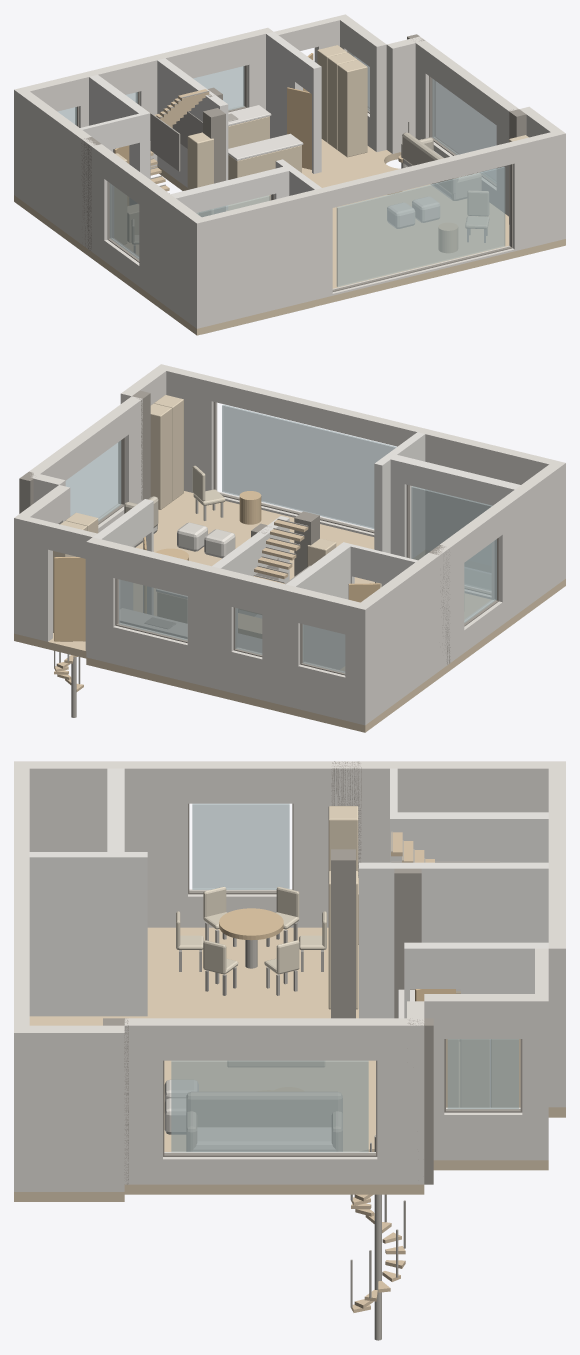
The model's file is ground-floor-wood.glb.
The picture shows the model from 3 angles, top to bottom: view 1: azimuth 30°, elevation 25°; view 2: azimuth 150°, elevation 25°; view 3: azimuth 270°, elevation 25°; orthographic projection. The views are drawn at different scales.
Parts seen in each view (by area): view 1: F1_Slab, F1_ExtWall_00_P00, F1_ExtWall_00_sliding_01_Glass, F1_ExtWall_09_P00, F1_ExtWall_09_P01, F1_ExtWall_00_P01, F1_ExtWall_00_Header_01, F1_ExtWall_03_window_01_Glass, F1_ExtWall_04_P00, F1_Entry_Tall_Cabinets_M01, F1_Stair_Kitchen_P00, F1_Bath_Stair_P00 (+51 smaller); view 2: F1_ExtWall_00_sliding_01_Glass, F1_ExtWall_09_P00, F1_Slab, F1_ExtWall_09_P01, F1_ExtWall_00_P00, F1_ExtWall_08_P01, F1_ExtWall_00_Header_01, F1_ExtWall_08_P02, F1_Atrium_North_sliding_01_Glass, F1_ExtWall_00_P01, F1_ExtWall_06_P00, F1_Bath_Stair_P00 (+47 smaller); view 3: F1_Slab, F1_Atrium_East_P00, F1_ExtWall_03_window_01_Glass, F1_ExtWall_09_P00, F1_ExtWall_09_P01, F1_Stair_Kitchen_P00, F1_ExtWall_01_P00, F1_ExtWall_03_Header_01, F1_ExtWall_09_window_01_Glass, F1_Bath_Stair_P00, F1_ExtWall_03_P00, F1_ExtWall_03_Sill_01 (+37 smaller).
Part boxes in pixels (x1,y1,x2,y2): F1_Slab: (14,139,565,335); F1_ExtWall_00_P00: (191,186,332,328); F1_ExtWall_00_sliding_01_Glass: (336,166,505,286); F1_ExtWall_09_P00: (14,87,113,260); F1_ExtWall_09_P01: (139,179,206,328); F1_ExtWall_00_P01: (509,130,565,251); F1_ExtWall_00_Header_01: (328,142,514,207); F1_ExtWall_03_window_01_Glass: (432,78,496,182); F1_ExtWall_04_P00: (386,37,424,153); F1_Entry_Tall_Cabinets_M01: (337,60,367,157); F1_Stair_Kitchen_P00: (157,58,228,209); F1_Bath_Stair_P00: (89,75,150,205); F1_ExtWall_00_sliding_01_Glass: (222,404,396,528); F1_ExtWall_09_P00: (354,534,464,723); F1_Slab: (14,491,565,732); F1_ExtWall_09_P01: (492,460,565,624); F1_ExtWall_00_P00: (411,426,565,580); F1_ExtWall_08_P01: (187,562,237,692); F1_ExtWall_00_Header_01: (211,378,416,446); F1_ExtWall_08_P02: (262,580,304,708); F1_Atrium_North_sliding_01_Glass: (411,486,492,590); F1_ExtWall_00_P01: (156,364,217,492); F1_ExtWall_06_P00: (15,516,52,641); F1_Bath_Stair_P00: (286,542,352,669); F1_Slab: (14,927,565,1201); F1_Atrium_East_P00: (29,852,147,1016); F1_ExtWall_03_window_01_Glass: (171,1060,368,1152); F1_ExtWall_09_P00: (293,761,565,927); F1_ExtWall_09_P01: (14,761,187,927); F1_Stair_Kitchen_P00: (359,862,548,1018); F1_ExtWall_01_P00: (14,1025,124,1191); F1_ExtWall_03_Header_01: (163,1018,377,1060); F1_ExtWall_09_window_01_Glass: (192,803,289,889); F1_Bath_Stair_P00: (390,812,548,862); F1_ExtWall_03_P00: (124,1018,162,1184); F1_ExtWall_03_Sill_01: (163,1152,377,1184).
Bounding box in the file's own units: 10.34 × 6.17 × 8.88.
